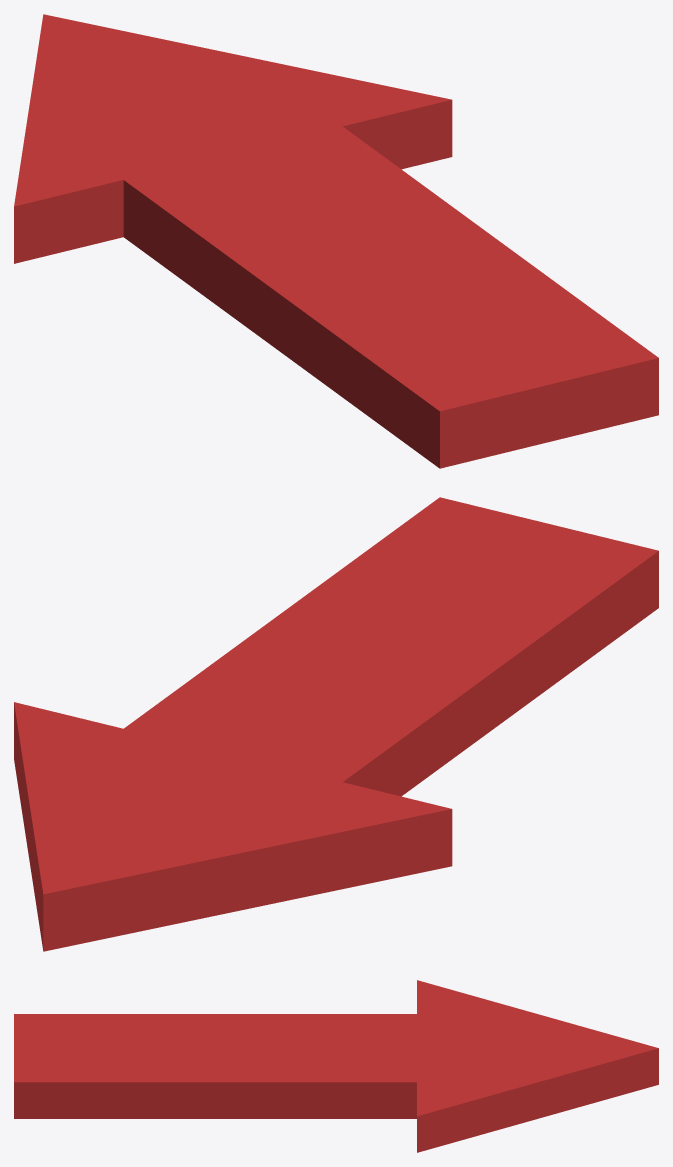
The model's file is RedArrow.fbx.
The picture shows the model from 3 angles, top to bottom: view 1: azimuth 30°, elevation 25°; view 2: azimuth 150°, elevation 25°; view 3: azimuth 270°, elevation 25°; orthographic projection. The views are drawn at different scales.
Visible parts, largest first — view 1: RedArrow; view 2: RedArrow; view 3: RedArrow.
Part boxes in pixels (x1=…): RedArrow: x1=14, y1=14, x2=658, y2=468; RedArrow: x1=14, y1=497, x2=658, y2=951; RedArrow: x1=14, y1=980, x2=658, y2=1152.
Bounding box in the file's own units: 40 × 5 × 80.
